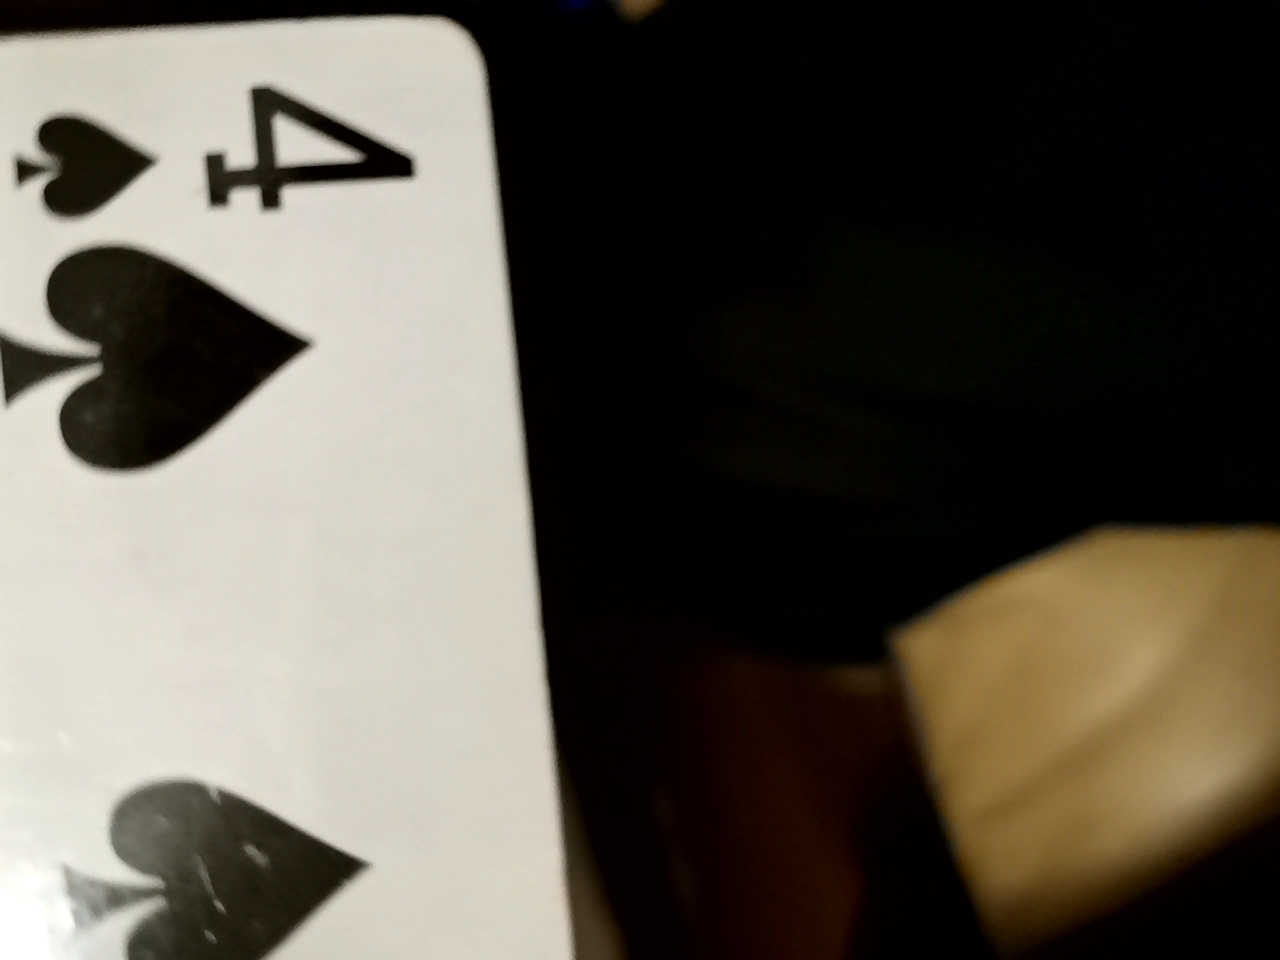ht 4: (13, 28, 596, 960)
